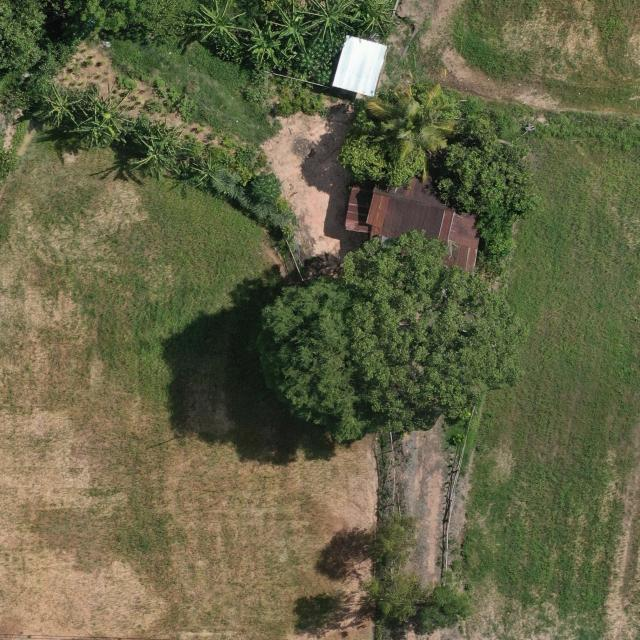Tree: (255, 228, 526, 450), (437, 117, 543, 264), (366, 68, 468, 163), (360, 568, 420, 624), (414, 584, 475, 636), (266, 0, 320, 55), (186, 0, 251, 45), (368, 511, 418, 566), (246, 17, 292, 67), (307, 0, 357, 45), (37, 80, 81, 128), (350, 0, 403, 36), (190, 152, 231, 185), (249, 172, 282, 205)
